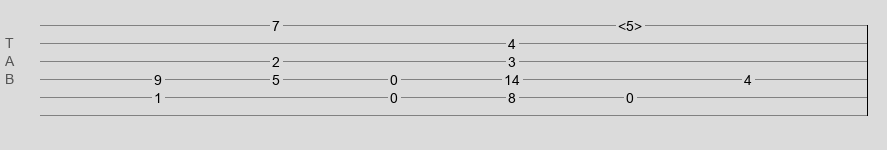0: (390, 90, 398, 100), (390, 72, 398, 82), (626, 90, 634, 100)
1: (154, 90, 162, 100)
14: (504, 72, 520, 82)
2: (272, 54, 280, 64)
3: (508, 54, 516, 64)
4: (508, 36, 516, 46), (744, 72, 752, 82)
5: (272, 72, 280, 82)
7: (272, 18, 280, 28)
8: (508, 90, 516, 100)
9: (154, 72, 162, 82)
harmonic: (618, 18, 642, 28)
